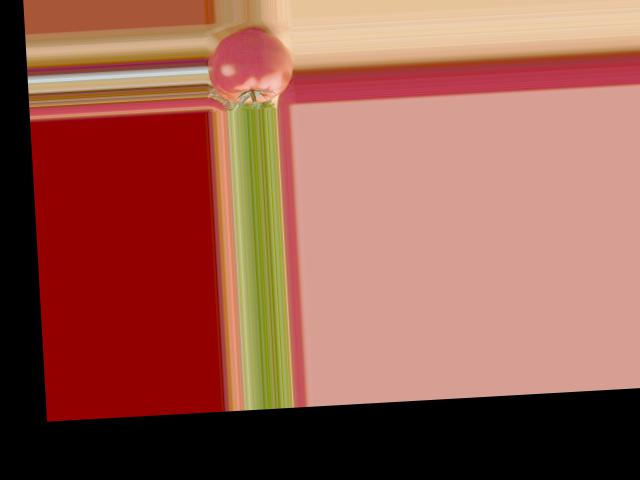tomato: (206, 27, 294, 105)
